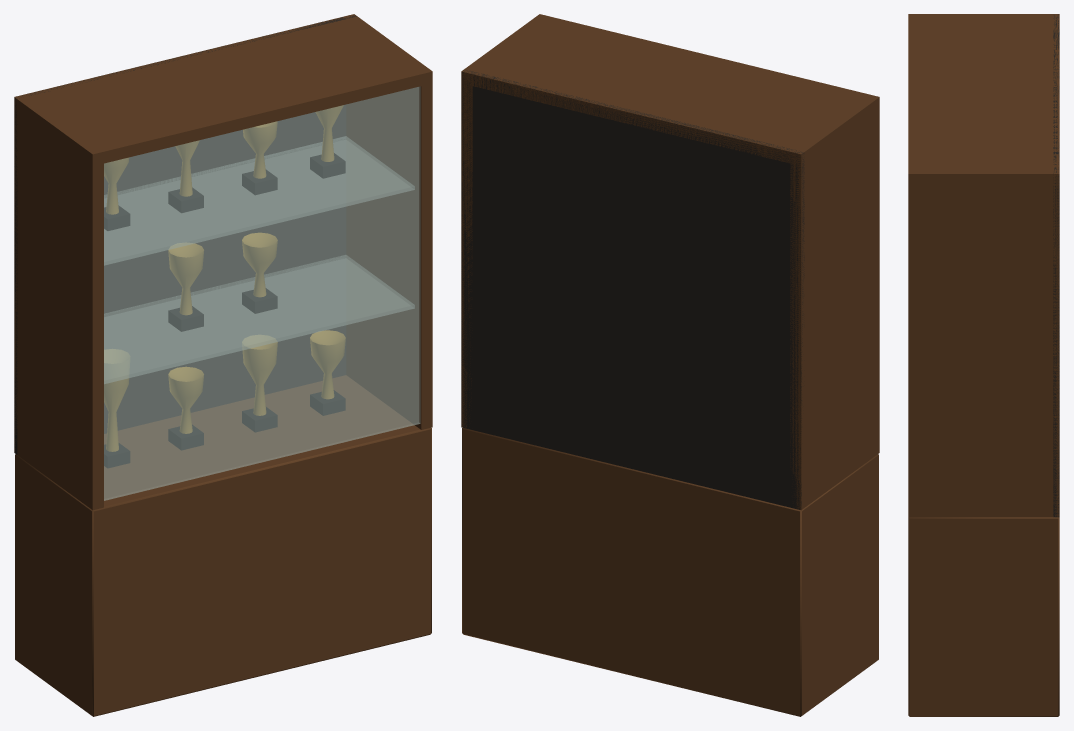
File: trophy_case.glb
3 views of the same model, side by side, from view 1: azimuth 30°, elevation 25°; view 2: azimuth 150°, elevation 25°; view 3: azimuth 270°, elevation 25° (orthographic). The views are drawn at different scales.
Parts seen in each view (by area): view 1: TrophyCase; view 2: TrophyCase; view 3: TrophyCase.
Boxes of the visible parts, x1,y1,x2,y2 form: TrophyCase: (14,14,432,716); TrophyCase: (461,14,879,716); TrophyCase: (908,14,1059,716).
Size of the model in its own units: 1.2 by 1.9 by 0.48.
